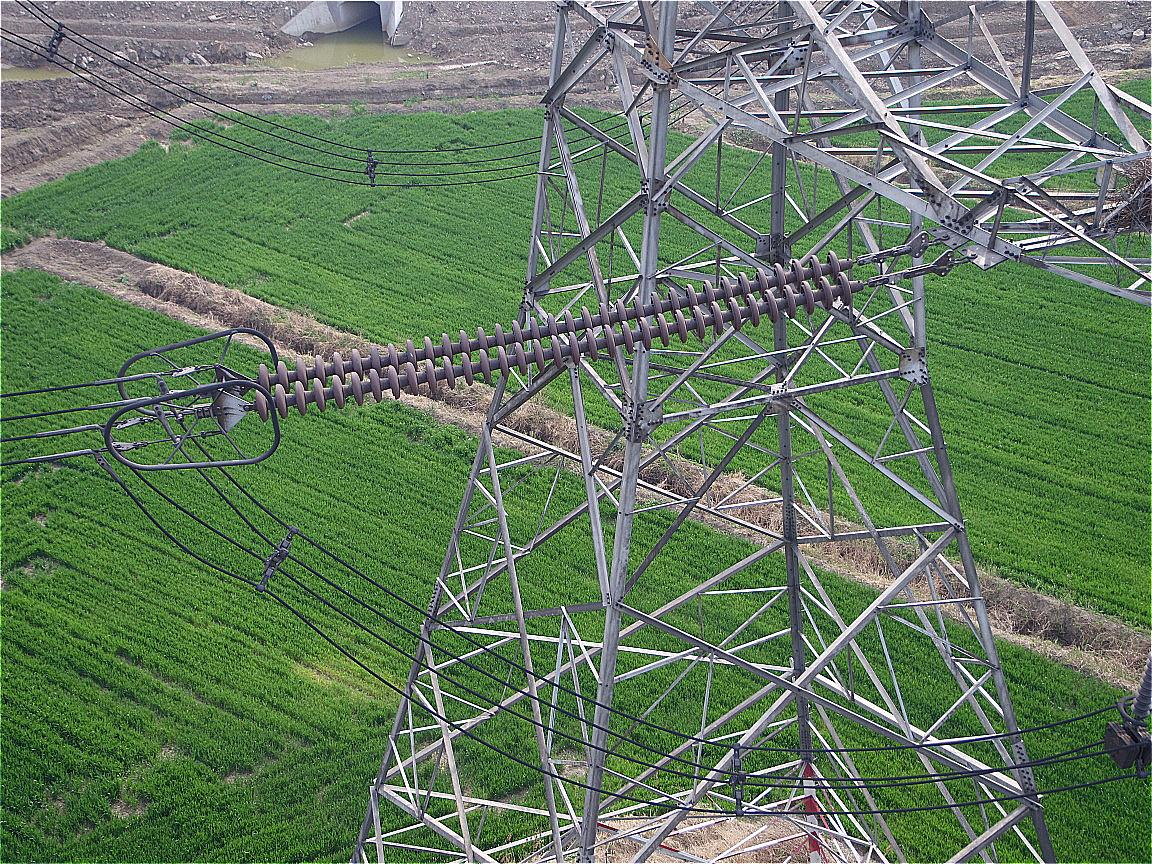insultor1: (240, 241, 892, 436)
